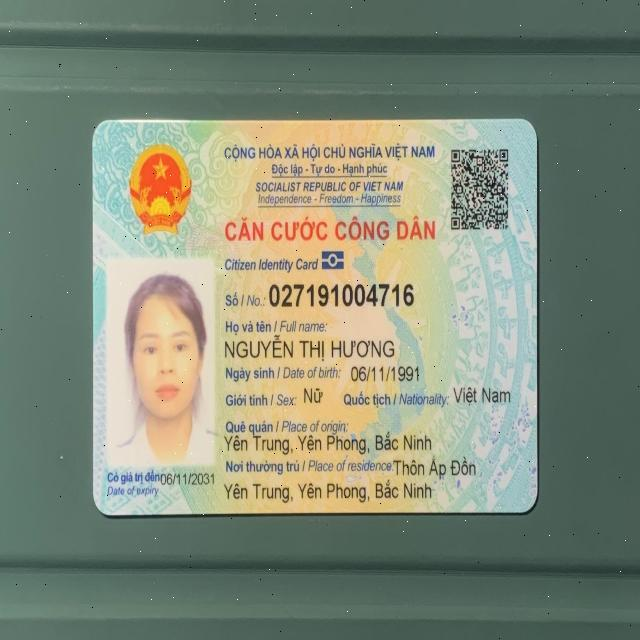current_place: (221, 478, 435, 504), (389, 455, 480, 481)
dob: (349, 358, 420, 385)
expire_date: (159, 469, 215, 491)
gender: (297, 386, 329, 405)
id: (268, 275, 415, 312)
name: (225, 333, 397, 361)
nationality: (447, 378, 510, 407)
origin_place: (222, 432, 432, 455)
qr: (448, 143, 512, 237)
